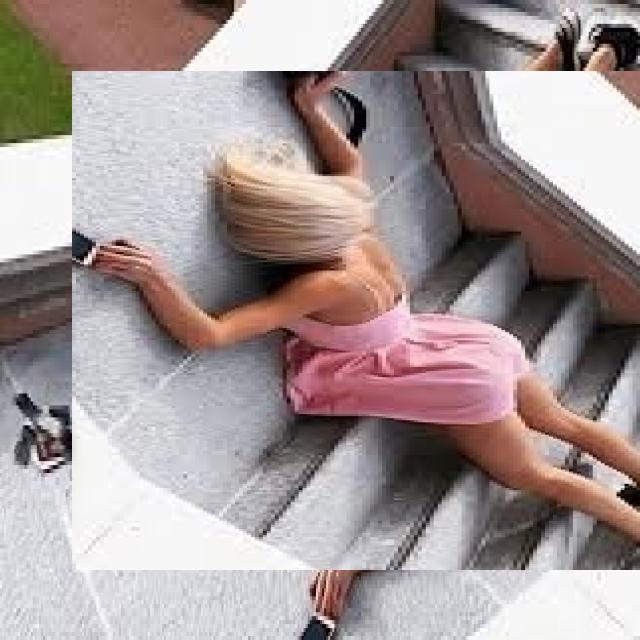Fall: (76, 73, 640, 562)
